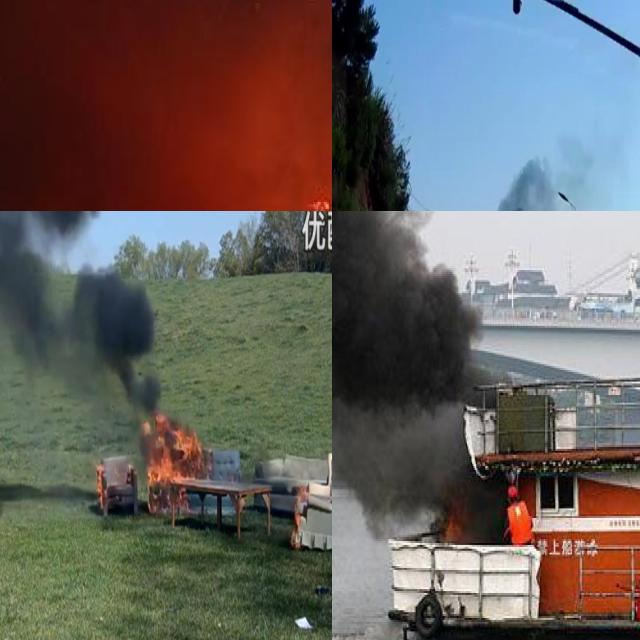fire: (142, 413, 205, 516), (503, 487, 531, 543), (291, 488, 307, 548), (442, 510, 464, 543), (95, 462, 107, 512)
smoke: (0, 0, 332, 211), (332, 211, 512, 541), (0, 211, 161, 425), (494, 147, 557, 211)
